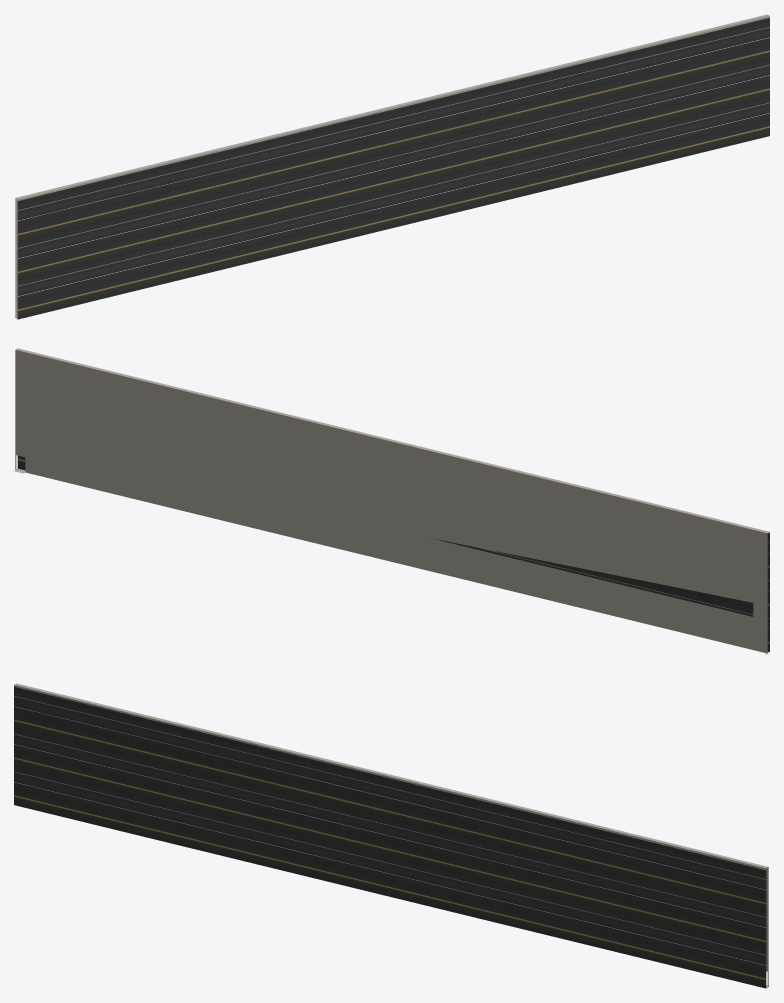
Rendered from deck_02.obj.
3 renders of one model, top to bottom at view 1: azimuth 30°, elevation 25°; view 2: azimuth 150°, elevation 25°; view 3: azimuth 330°, elevation 25°, orthographic.
Visible parts, largest first — view 1: _12, _8; view 2: _8, _12; view 3: _12, _8.
Part boxes in pixels (x1=…): _12: x1=17, y1=18, x2=769, y2=319; _8: x1=14, y1=14, x2=769, y2=319; _8: x1=14, y1=348, x2=769, y2=654; _12: x1=17, y1=455, x2=769, y2=651; _12: x1=14, y1=686, x2=766, y2=988; _8: x1=14, y1=683, x2=769, y2=988.
Size of the model in its own units: 35.88 by 5.48 by 0.3092.
